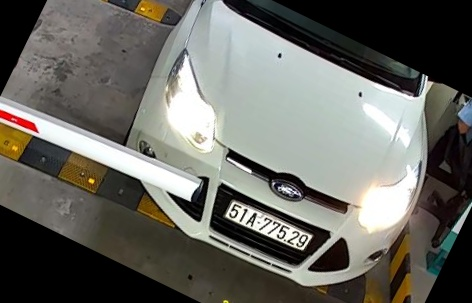plate: (222, 198, 320, 255)
